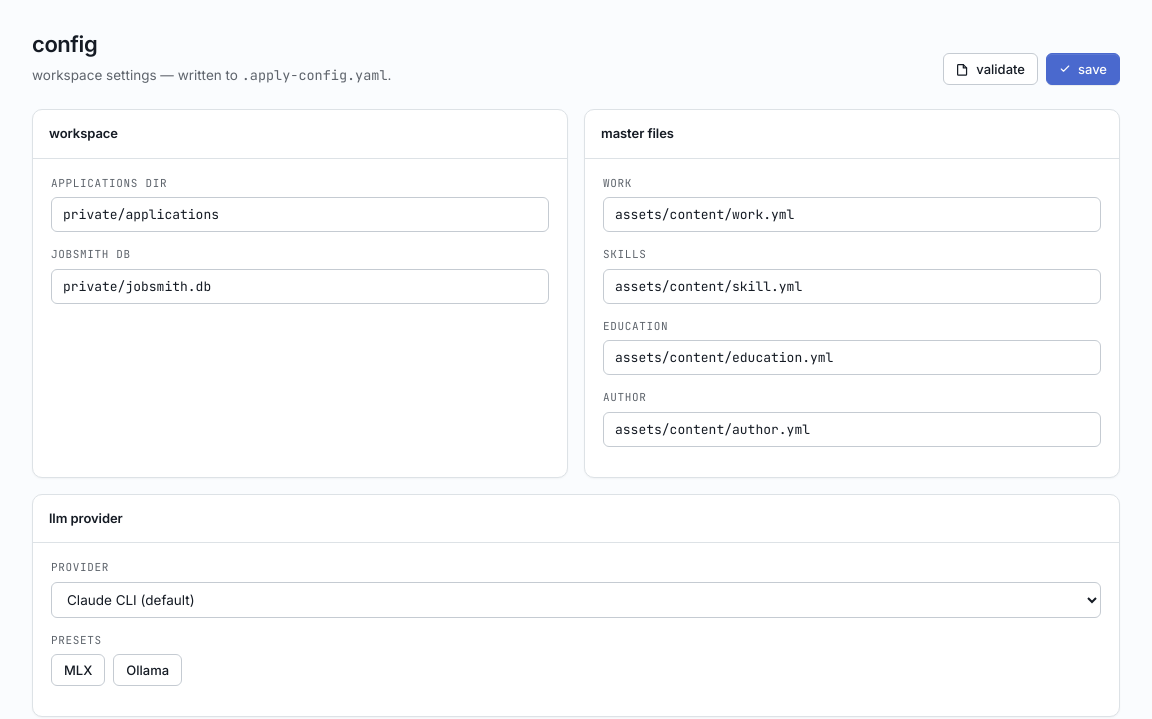
ConfigView › renders inline errors when POST returns ok:false
The image size is (1152, 719).
Expected: the 2nd field showing "assets/content/work.yml" is shown, [603, 197, 1101, 232]
Click the button "validate". click: (991, 69)
box: [943, 53, 1038, 85]
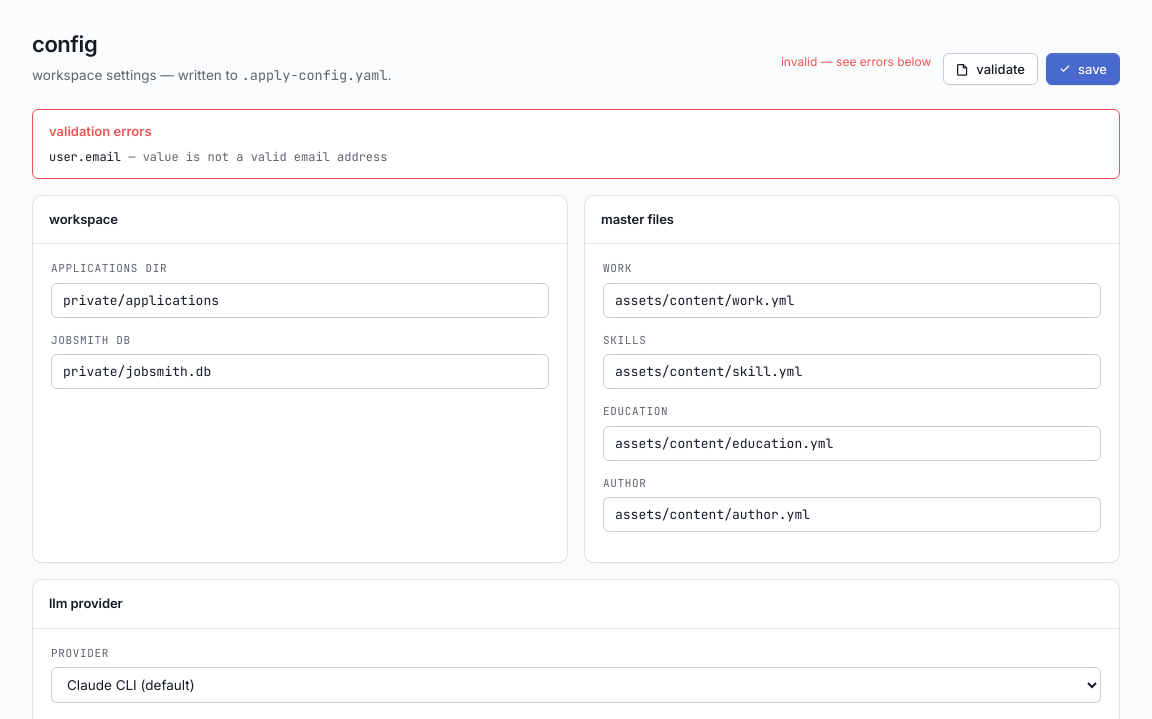
Expected: the text "user.email — value is not a valid email address" is shown, [49, 149, 387, 165]
